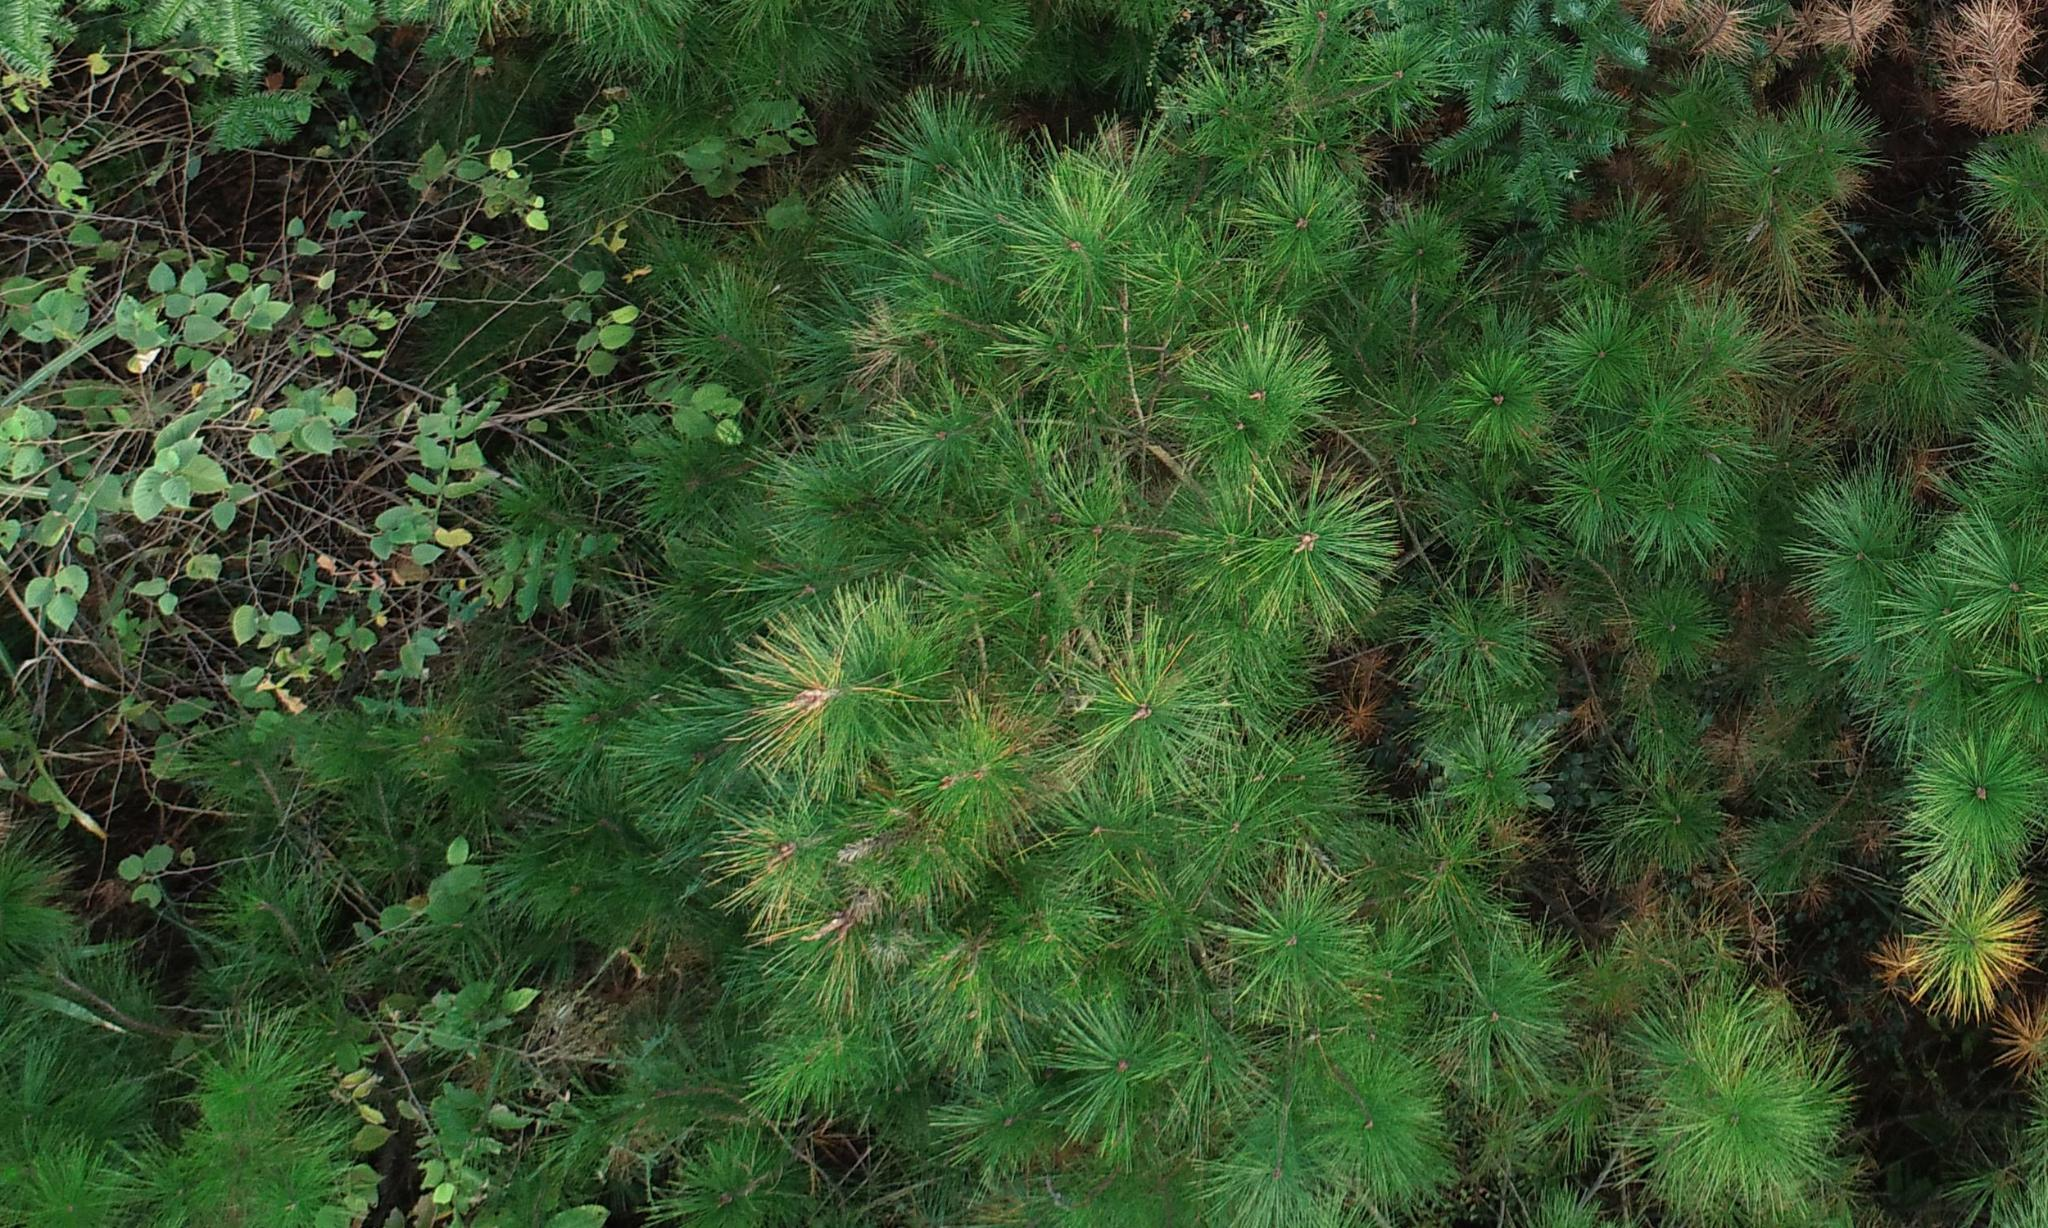light: (620, 86, 1519, 1132)
